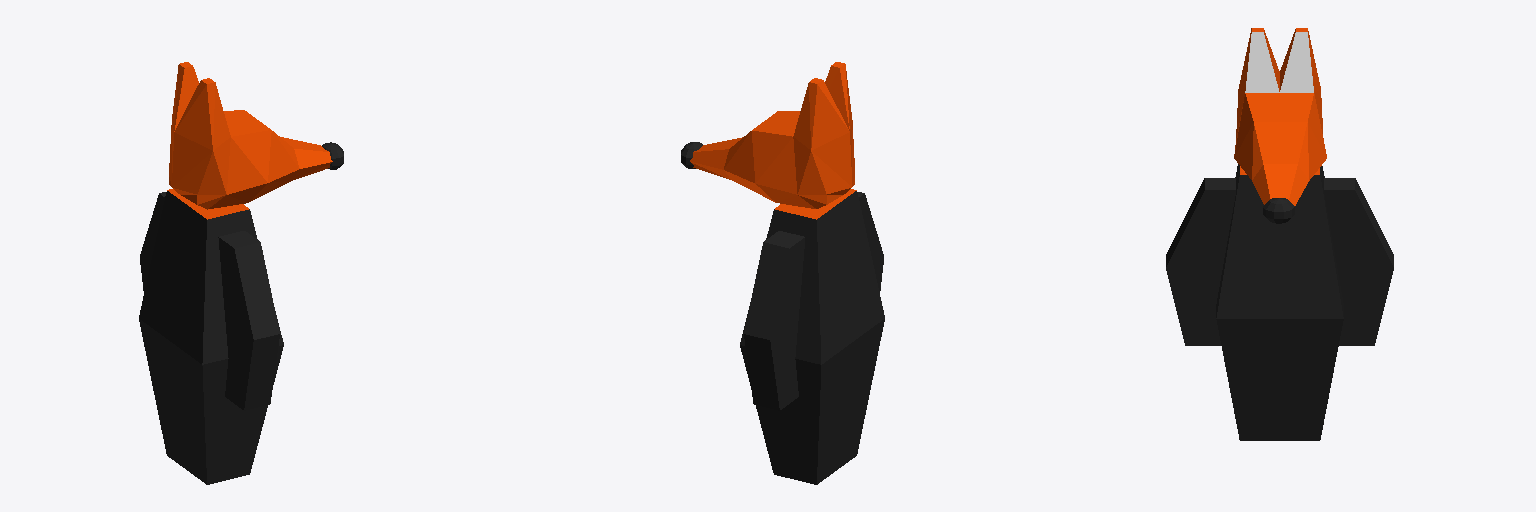
3 views of the same model, side by side, from view 1: azimuth 30°, elevation 25°; view 2: azimuth 150°, elevation 25°; view 3: azimuth 270°, elevation 25° (orthographic).
Visible parts, largest first — view 1: Plane001; view 2: Plane001; view 3: Plane001.
Part boxes in pixels (bbox=[...]): Plane001: bbox=[139, 62, 343, 484]; Plane001: bbox=[681, 62, 884, 484]; Plane001: bbox=[1166, 28, 1393, 440].
Bounding box in the file's own units: 28.24 × 62.4 × 32.7.
Materials: 1 (1 with a texture image).